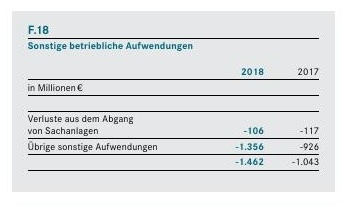table: (0, 0, 348, 205)
